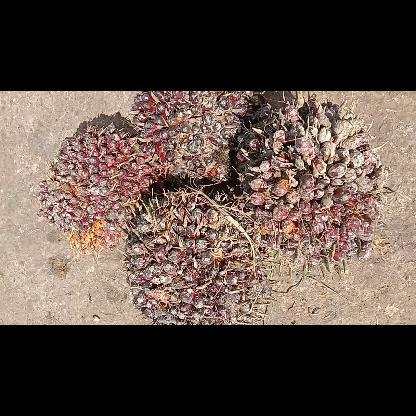Kurang masak: (236, 92, 392, 276), (126, 188, 270, 324), (38, 122, 160, 256), (127, 92, 258, 184)
